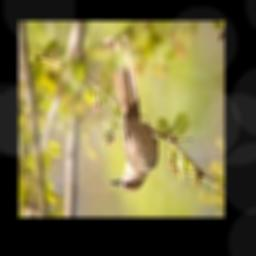Cuckoo: (105, 37, 159, 192)
